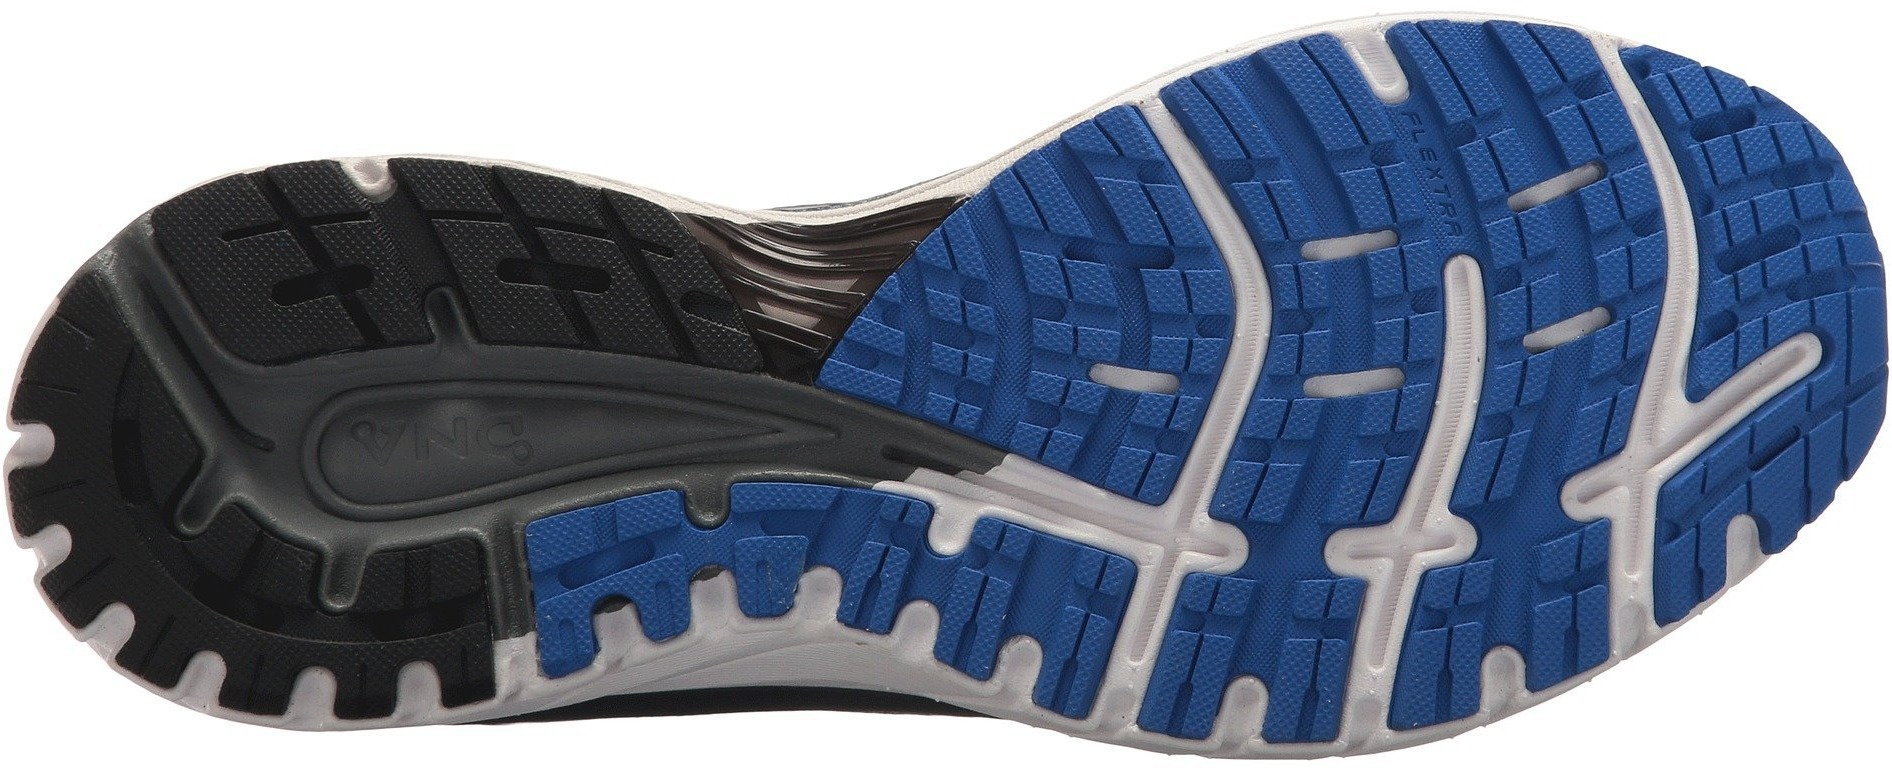quad: (952, 221, 1207, 464), (1271, 97, 1467, 356), (1484, 126, 1671, 301), (1254, 384, 1406, 550), (1705, 145, 1861, 303)
text: (1271, 97, 1467, 356), (311, 386, 551, 506)
